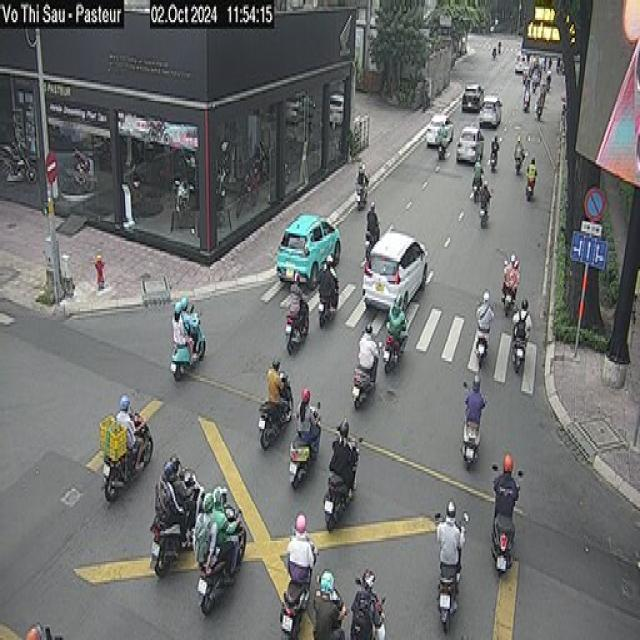car: (358, 226, 428, 314), (276, 210, 342, 286), (424, 110, 450, 167), (458, 122, 482, 171), (477, 91, 504, 133), (462, 78, 482, 115), (515, 45, 531, 80)
motorcycle: (193, 534, 253, 604), (158, 488, 205, 570), (93, 432, 151, 495), (324, 446, 362, 522), (287, 532, 316, 630), (278, 427, 325, 480), (254, 386, 298, 442), (488, 465, 511, 569), (438, 539, 458, 637), (280, 297, 312, 354), (170, 325, 208, 370), (464, 386, 482, 474), (313, 592, 344, 636), (4, 153, 38, 192), (315, 271, 341, 321), (347, 352, 376, 395), (72, 145, 99, 190), (382, 328, 412, 368), (356, 596, 387, 634), (474, 310, 493, 364), (508, 321, 522, 373), (500, 266, 515, 314), (360, 214, 378, 252), (518, 172, 540, 200), (352, 175, 370, 208), (519, 90, 534, 126), (471, 201, 494, 223), (510, 149, 527, 176), (468, 173, 482, 198), (487, 152, 502, 175), (522, 71, 537, 92), (536, 101, 546, 129), (437, 140, 448, 165), (534, 70, 541, 102), (546, 75, 555, 97)
person: (283, 514, 317, 582), (434, 501, 463, 580), (491, 452, 520, 530), (116, 390, 141, 472), (166, 440, 194, 507), (356, 562, 380, 640), (316, 571, 344, 636), (386, 289, 416, 348), (212, 478, 234, 554), (196, 495, 216, 574), (159, 458, 178, 533), (464, 367, 482, 431), (501, 264, 527, 307), (265, 345, 282, 405), (359, 319, 377, 369), (288, 260, 302, 321), (180, 293, 197, 343), (514, 300, 531, 348), (297, 388, 312, 440), (323, 247, 339, 295), (362, 199, 381, 239), (504, 249, 522, 290), (312, 260, 330, 300), (478, 278, 488, 340), (172, 306, 186, 349), (481, 173, 490, 217), (524, 69, 531, 106), (515, 130, 523, 162), (441, 115, 449, 146), (528, 156, 536, 186), (358, 162, 366, 188), (538, 78, 544, 112), (547, 65, 557, 85), (493, 130, 501, 154), (363, 152, 369, 182), (471, 160, 479, 177)
